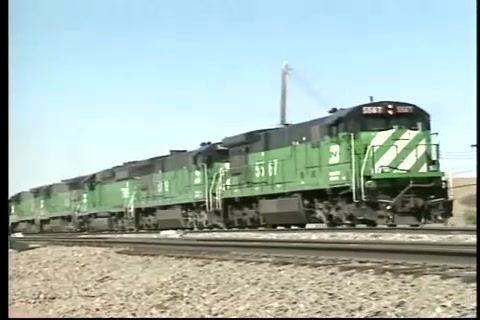train: (10, 96, 451, 233)
